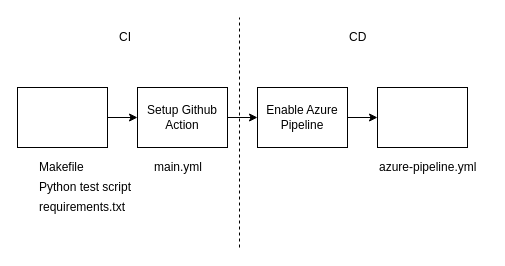
Some shapes in this 505 by 266 pixel diagram are drawn without their labels. Here are the shapes that lost their labels. From the top down, the centre of each, then its label:
At point 62,117: "Create Github".
At point 422,117: "Setup Azure Pipeline Test Code and Deployment".
